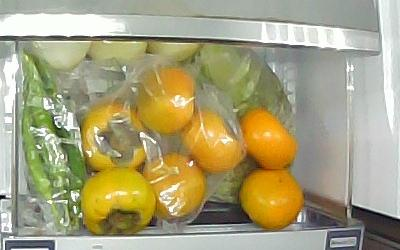persimmon: (79, 166, 154, 234), (237, 170, 305, 230), (237, 109, 297, 172)
persimmon_vinyl: (81, 103, 145, 172), (144, 153, 205, 223), (182, 111, 245, 175), (137, 68, 196, 135)
